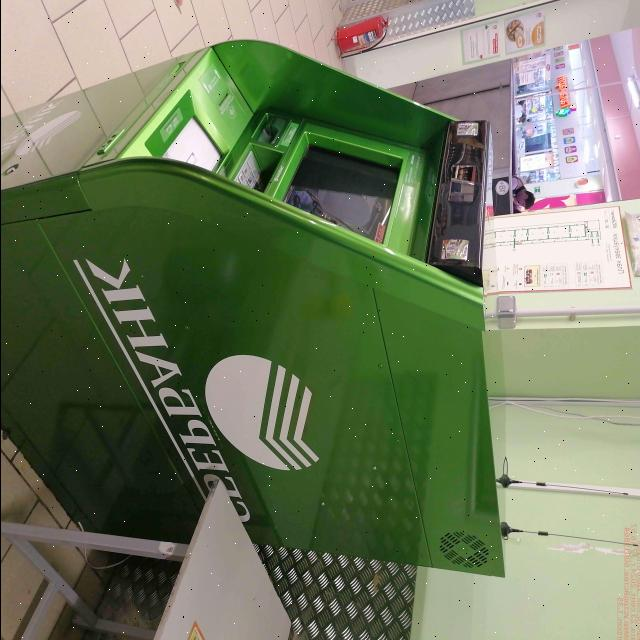bank: (0, 38, 507, 580)
